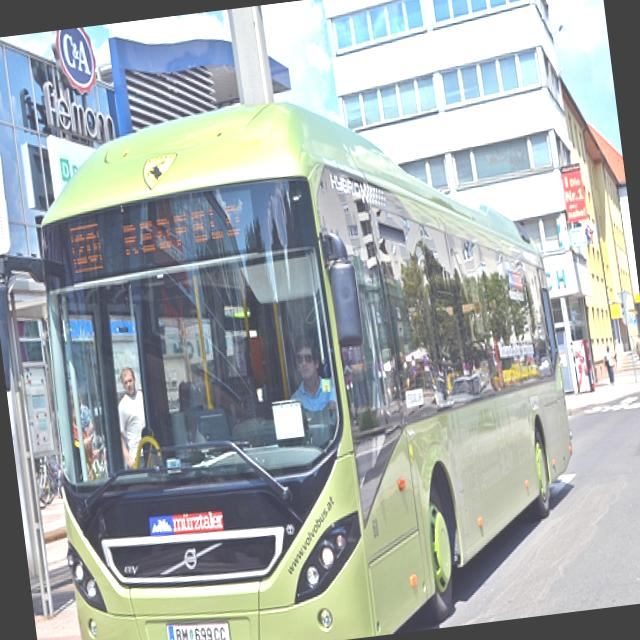Vehicle: (18, 65, 594, 640)
